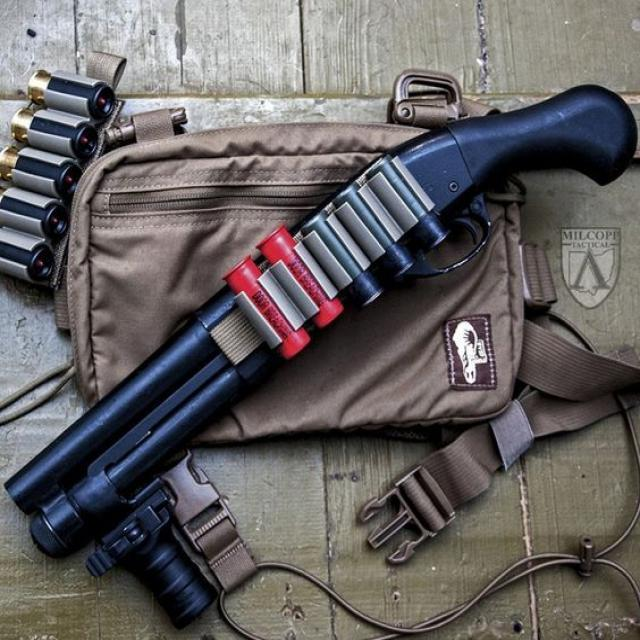shotgun: (10, 75, 640, 608)
